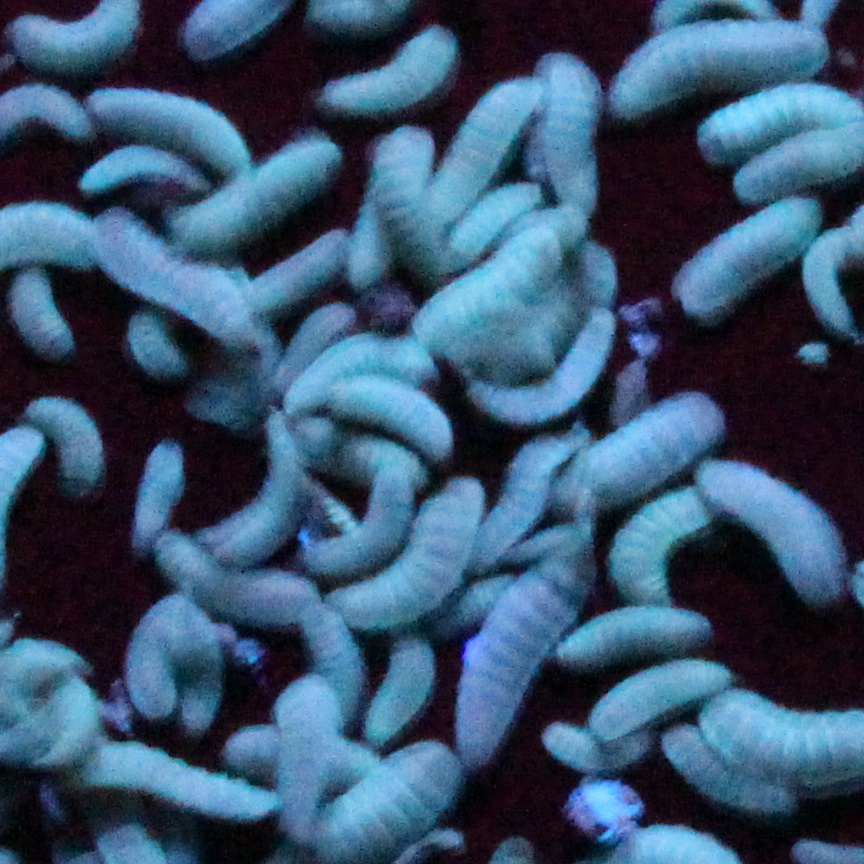larve: (452, 547, 593, 769), (330, 476, 479, 638), (693, 452, 850, 603), (610, 9, 821, 114), (73, 734, 279, 831), (668, 191, 808, 329), (90, 209, 239, 336), (562, 387, 724, 502), (424, 67, 542, 220), (86, 71, 259, 171), (173, 136, 333, 242), (151, 531, 322, 629), (470, 423, 579, 574), (111, 594, 230, 731), (481, 309, 619, 427), (206, 416, 313, 563), (417, 231, 561, 336), (610, 482, 722, 609), (533, 45, 615, 216), (375, 129, 459, 291), (284, 331, 439, 418), (308, 465, 415, 585), (670, 727, 799, 825), (693, 83, 857, 158), (322, 29, 461, 112), (326, 371, 455, 458), (590, 658, 732, 734), (559, 603, 717, 667), (279, 672, 337, 834), (250, 229, 348, 312), (28, 392, 101, 489), (799, 225, 861, 338), (364, 634, 432, 736), (541, 720, 664, 776), (8, 265, 77, 354), (304, 605, 359, 714), (131, 436, 186, 543)
